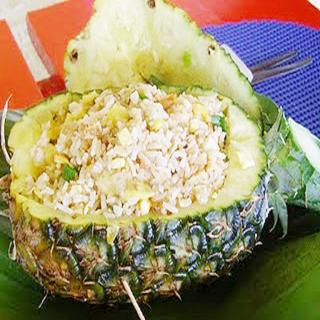Salad: (15, 82, 236, 218)
